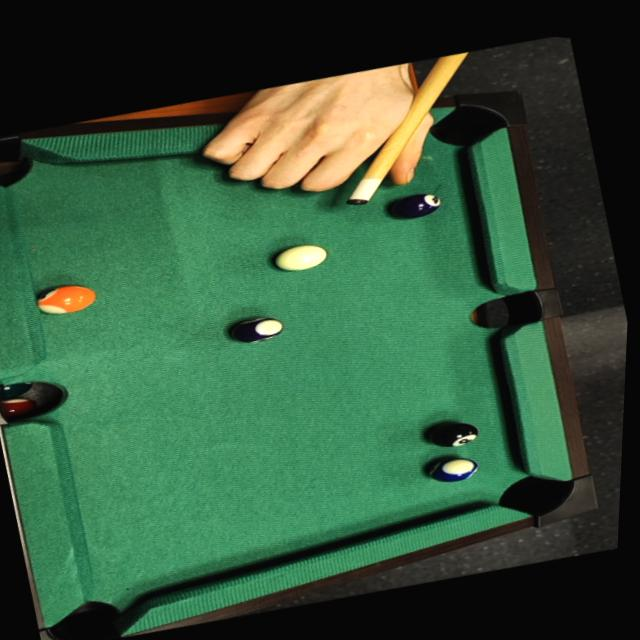cue ball: (267, 234, 332, 277)
other: (27, 273, 107, 326), (224, 306, 291, 351), (384, 183, 449, 225), (425, 412, 485, 452), (423, 449, 483, 489)
